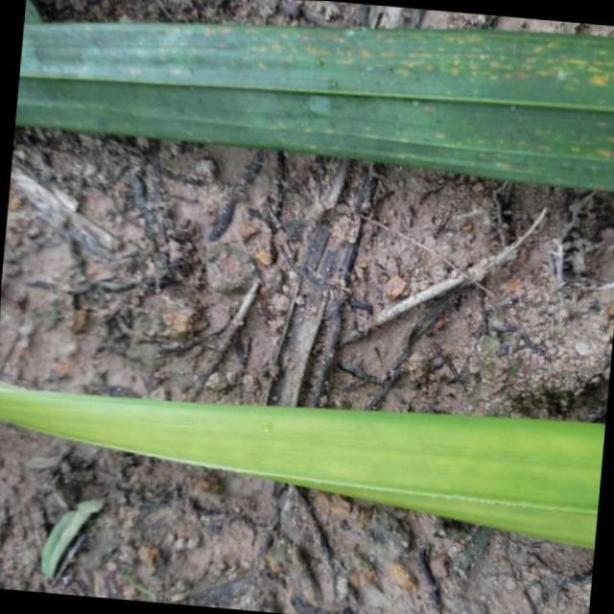nitrogen: (1, 8, 614, 196), (0, 382, 614, 550)
